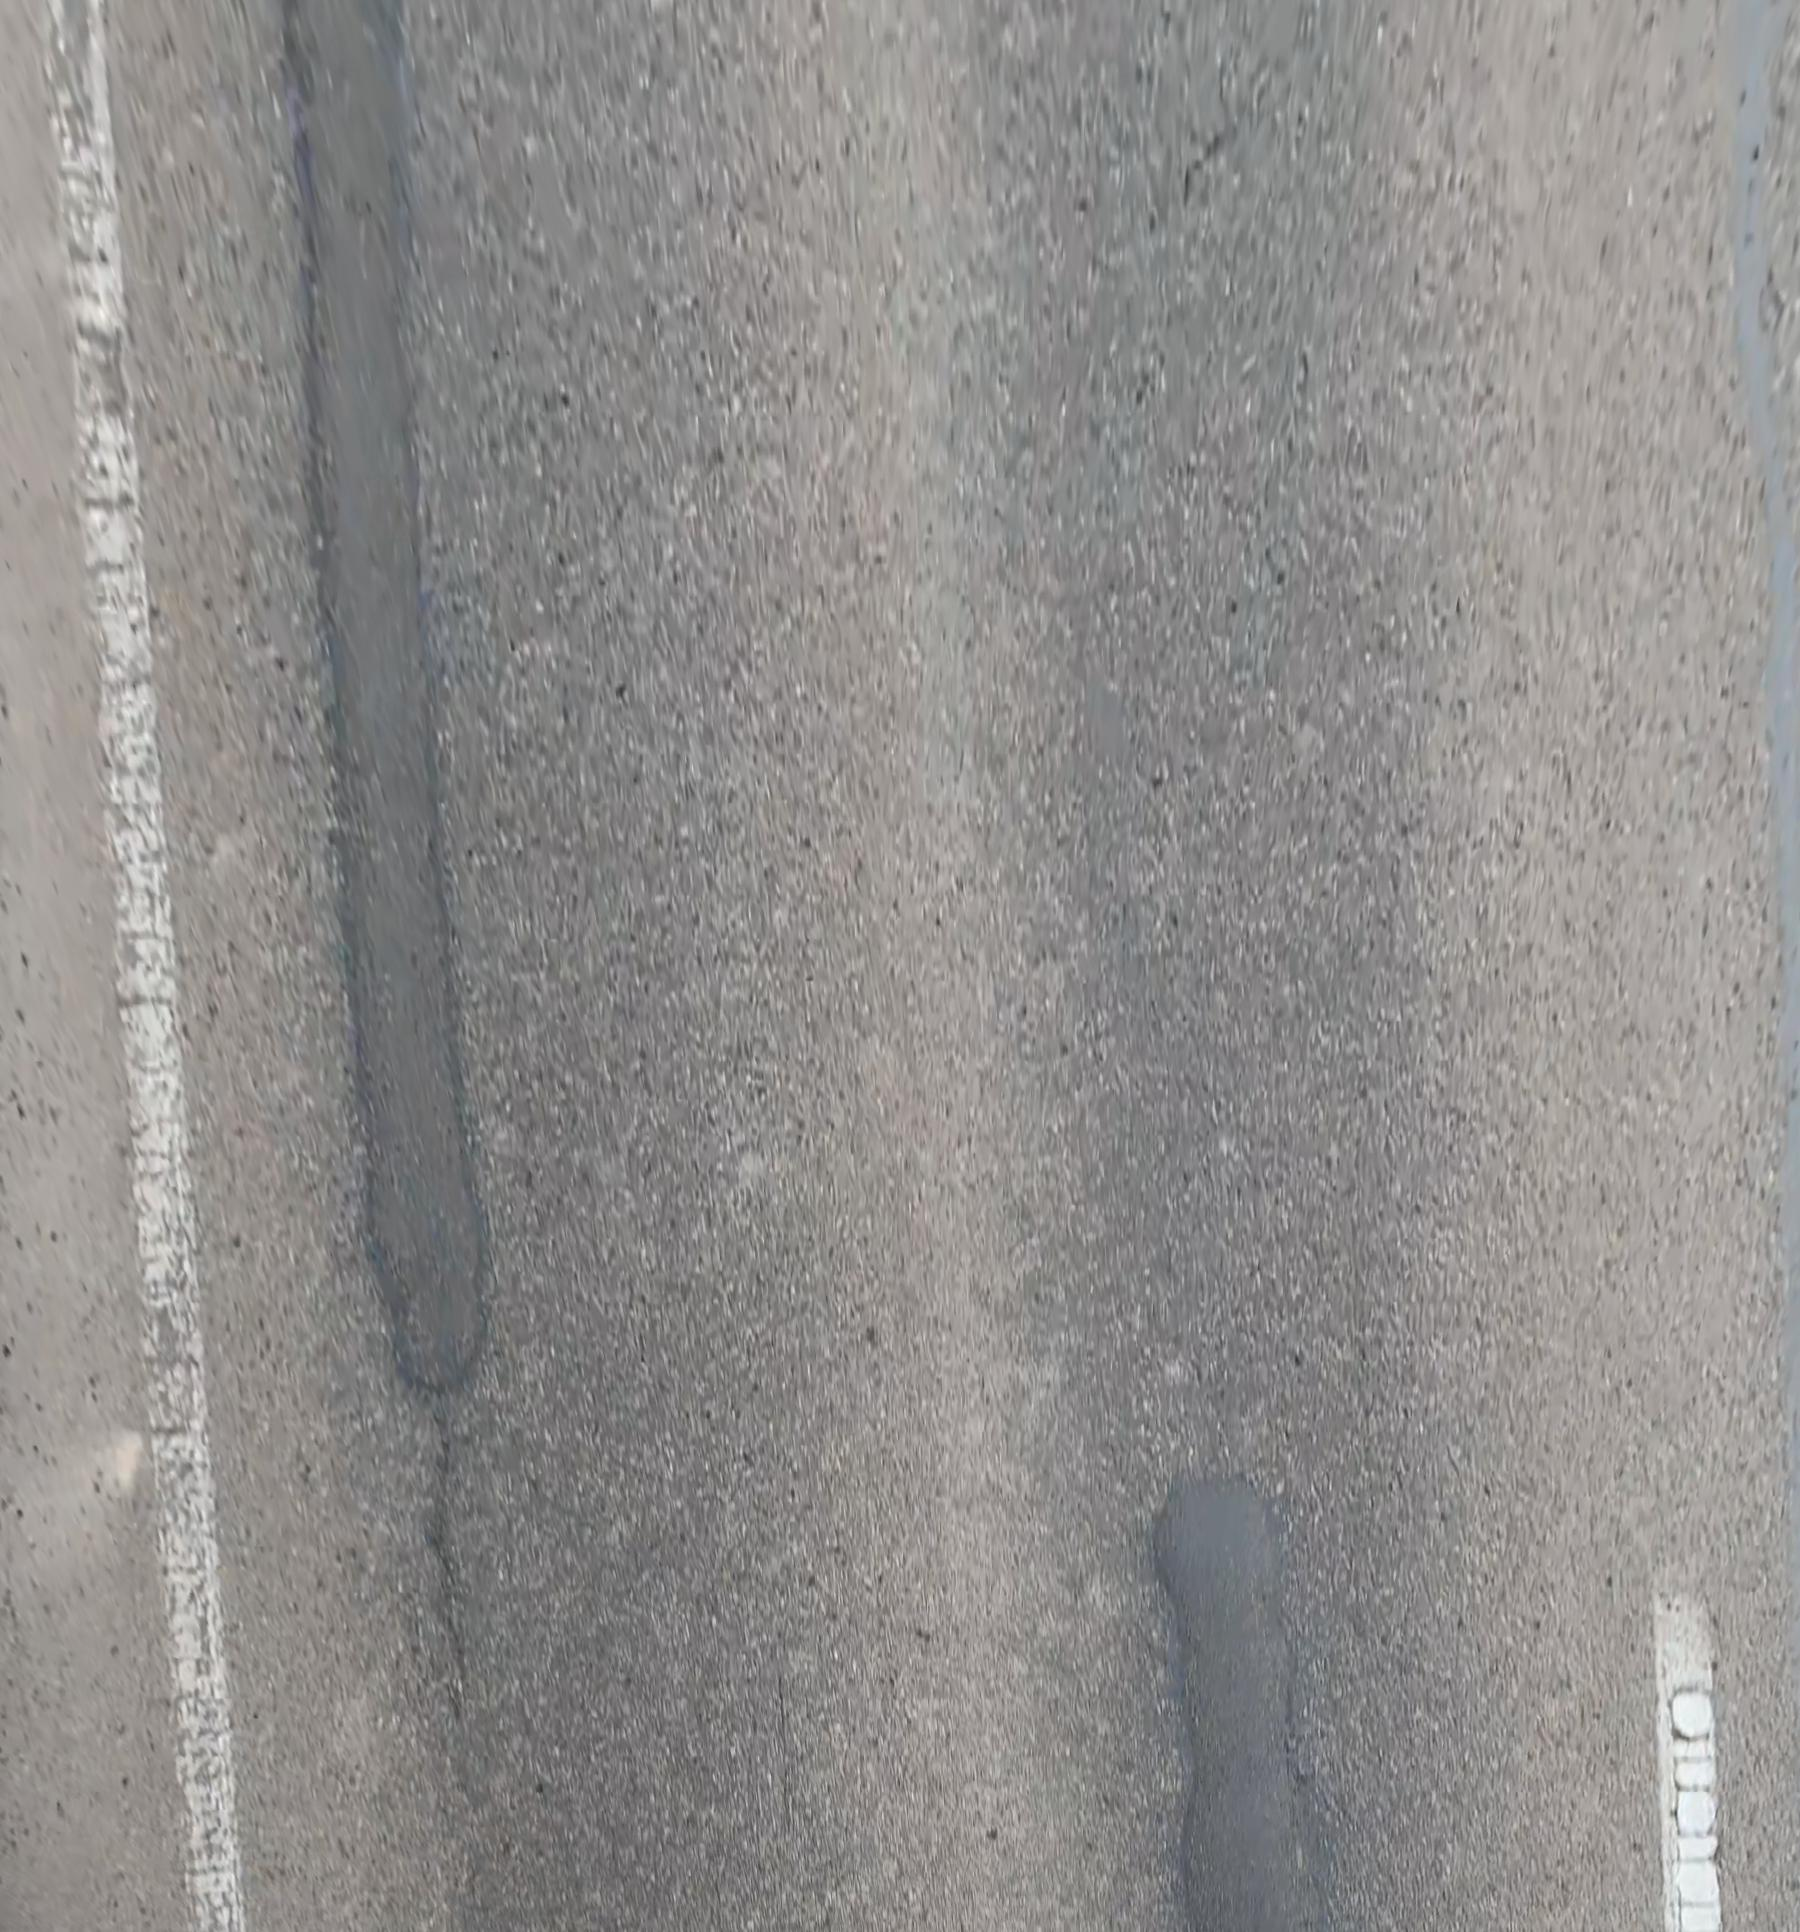pothole_patch_good: (283, 0, 482, 1391), (1157, 1482, 1314, 1932)
